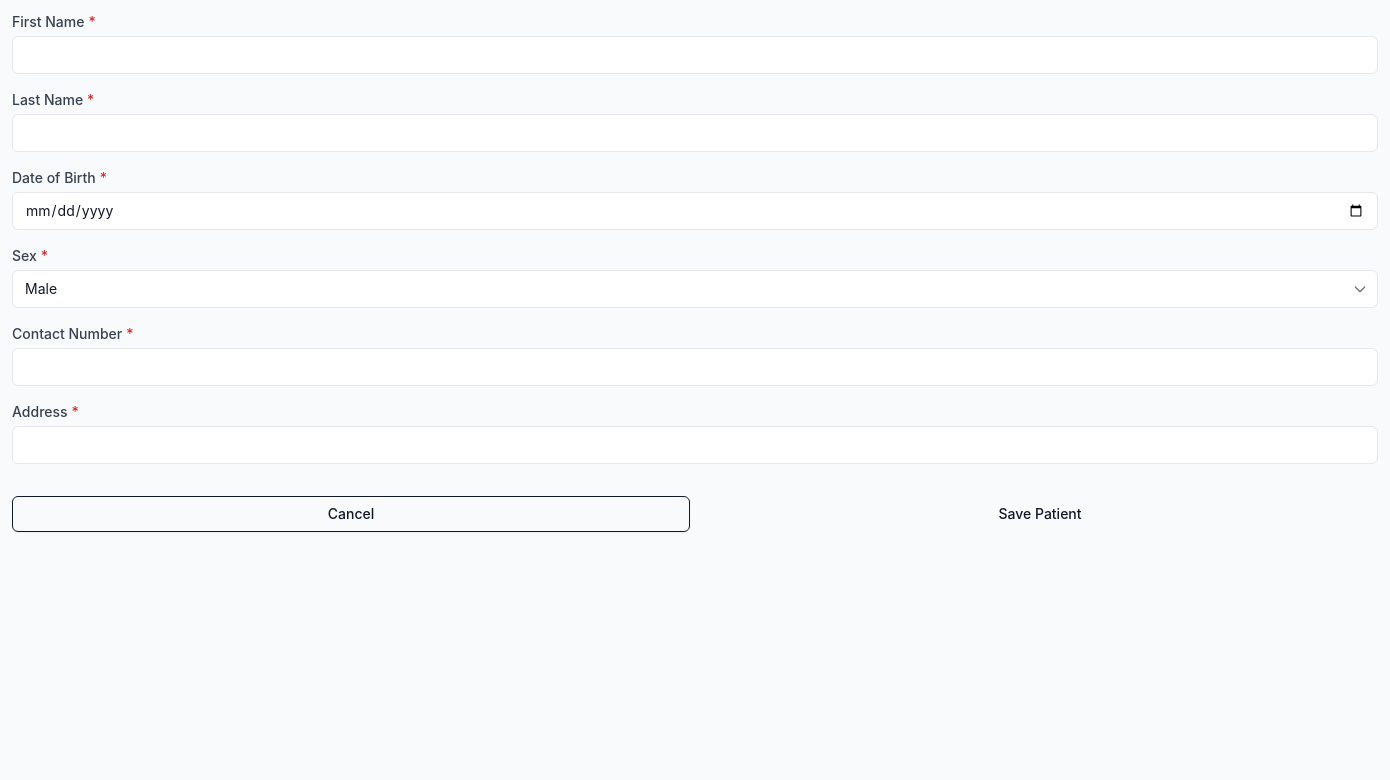
Test: CreatePatientForm validation › shows an associated field error when a required field blurs empty
Click the field labelled "First Name*" at (695, 55), box left=12, top=36, right=1378, bottom=74
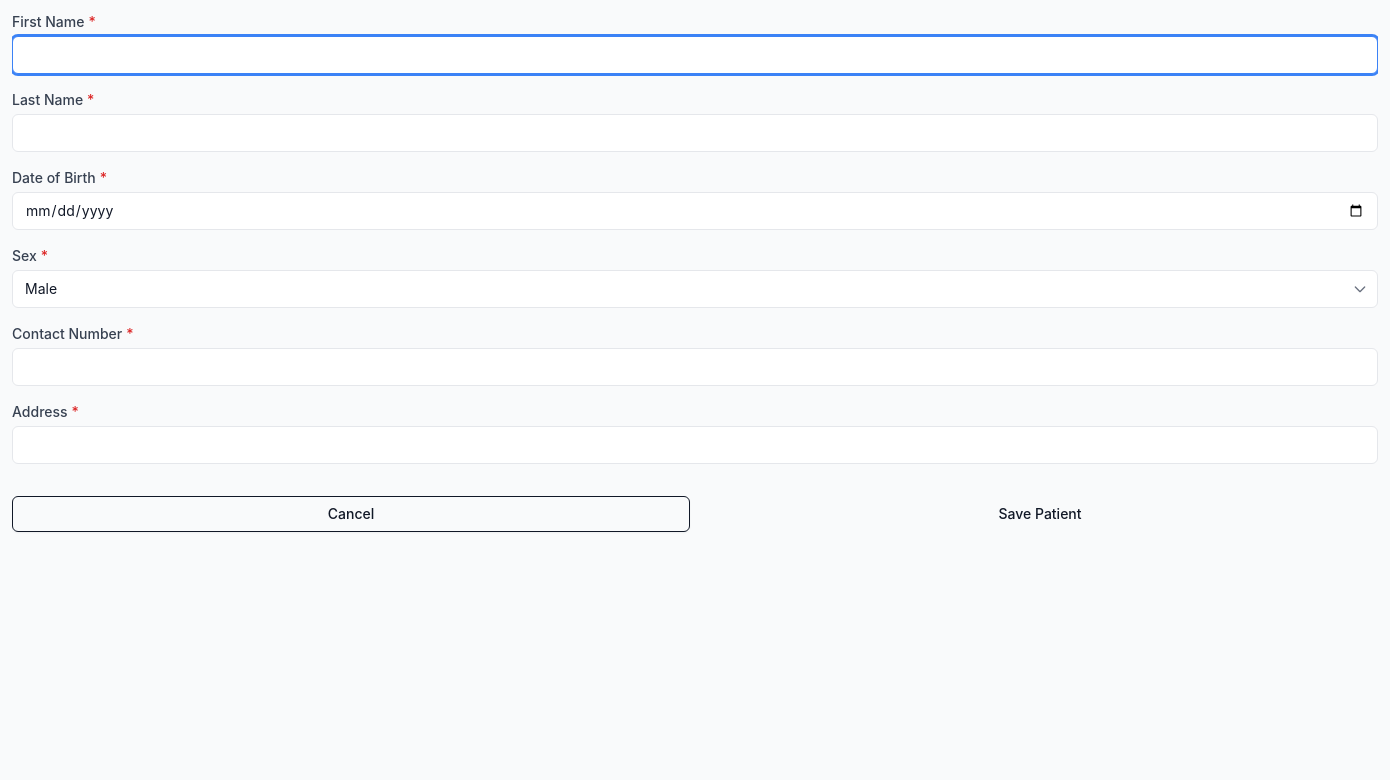
Press Tab
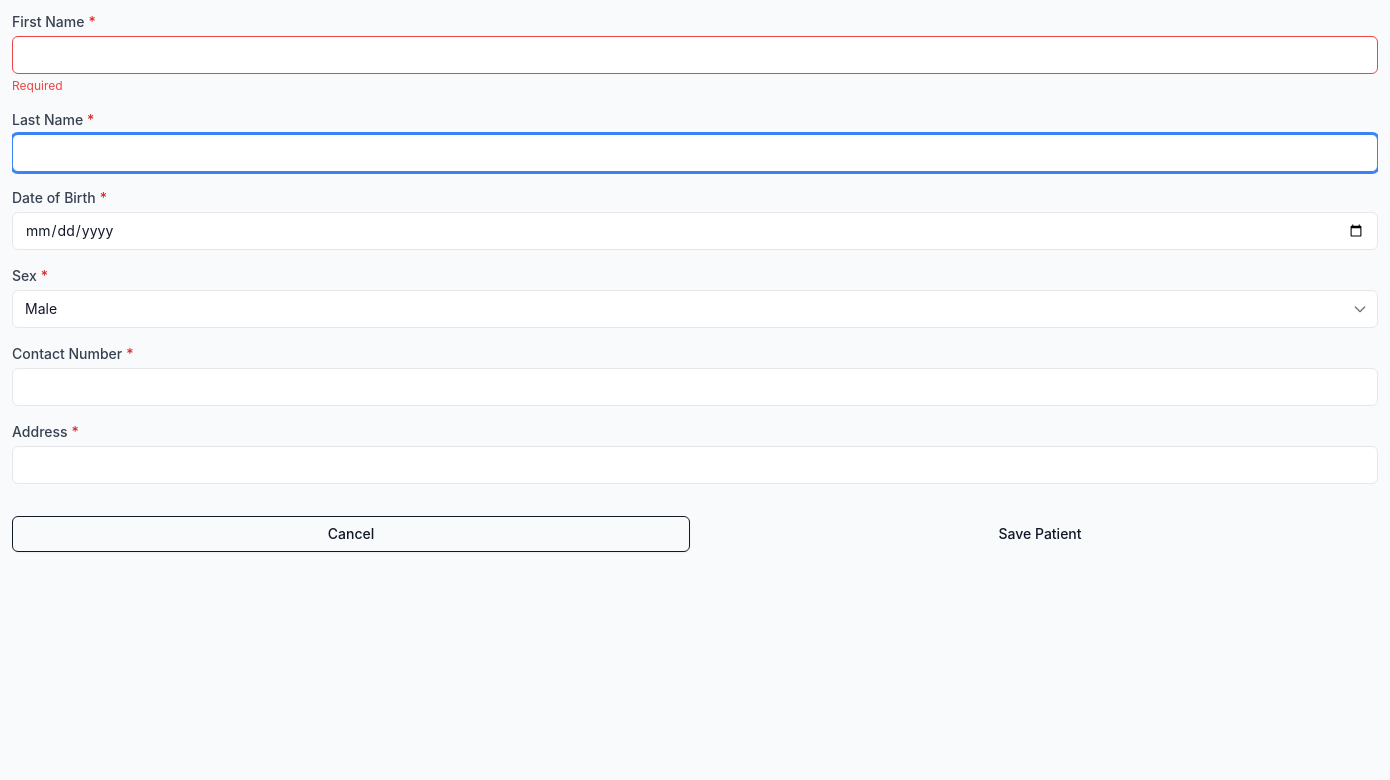
Expected: the text "Required" is shown, left=12, top=78, right=63, bottom=93
